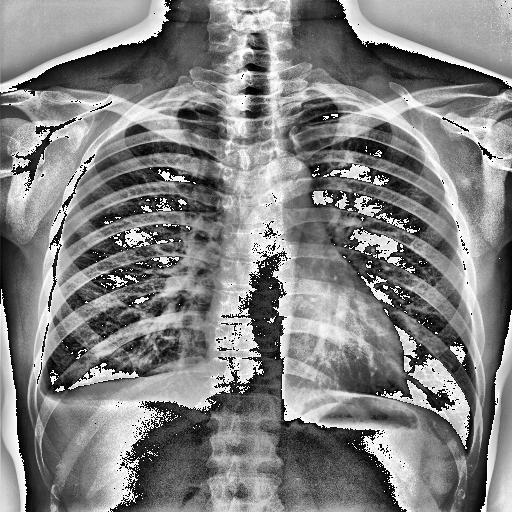10- Pleural effusion: (32, 383, 172, 429), (34, 385, 101, 421), (30, 385, 50, 414)
11- Pleural thickening: (30, 385, 50, 414)
